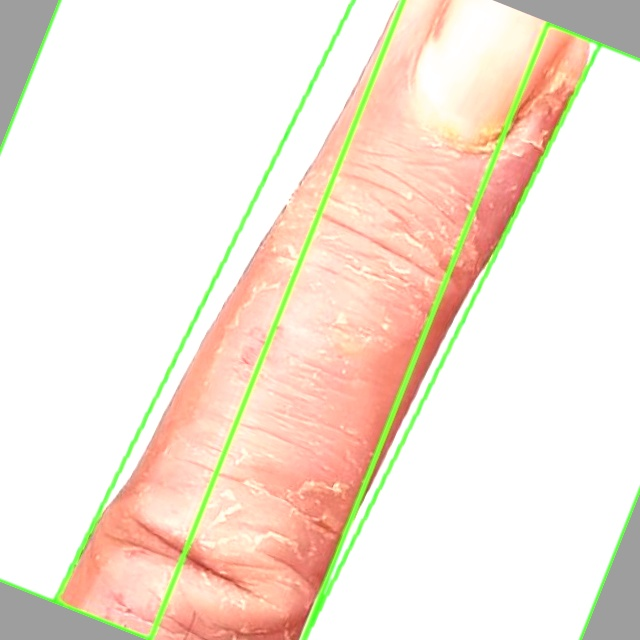Eczema: (54, 0, 599, 639), (0, 0, 403, 639), (303, 22, 639, 639)
